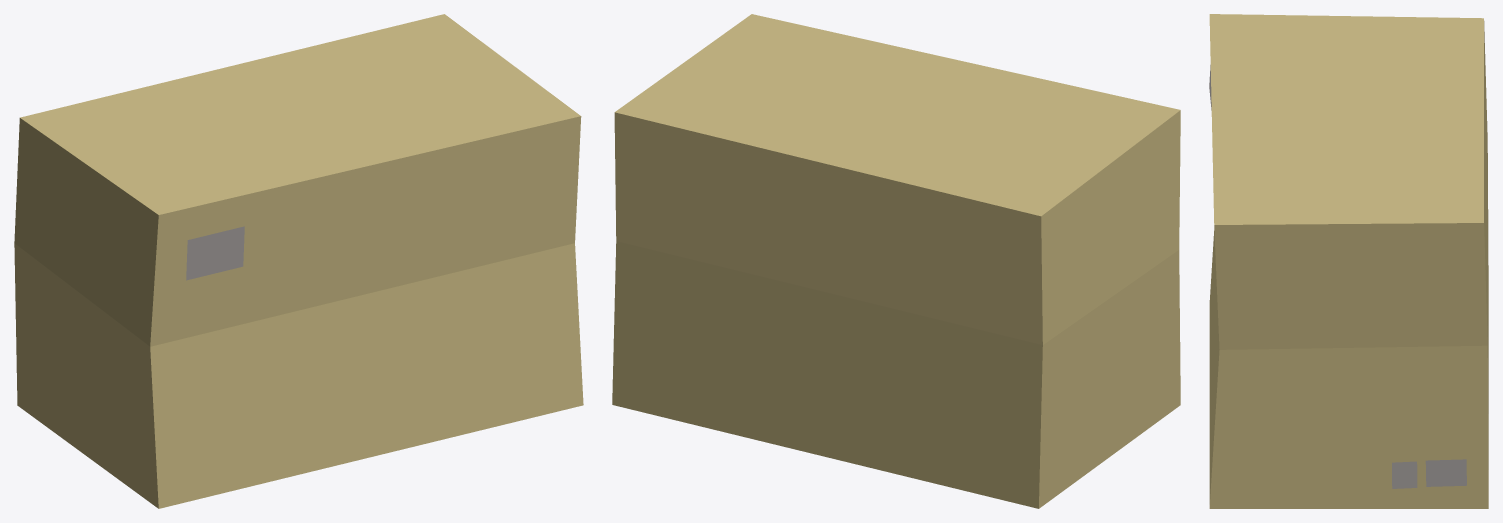
File: BigPaperBox.fbx
3 views of the same model, side by side, from view 1: azimuth 30°, elevation 25°; view 2: azimuth 150°, elevation 25°; view 3: azimuth 270°, elevation 25° (orthographic).
Visible parts, largest first — view 1: BigPaperBox; view 2: BigPaperBox; view 3: BigPaperBox.
Part boxes in pixels (<box>): BigPaperBox: <box>14,14,583,508</box>; BigPaperBox: <box>612,14,1180,508</box>; BigPaperBox: <box>1209,14,1488,508</box>.
Bounding box in the file's own units: 202 × 132 × 115.
